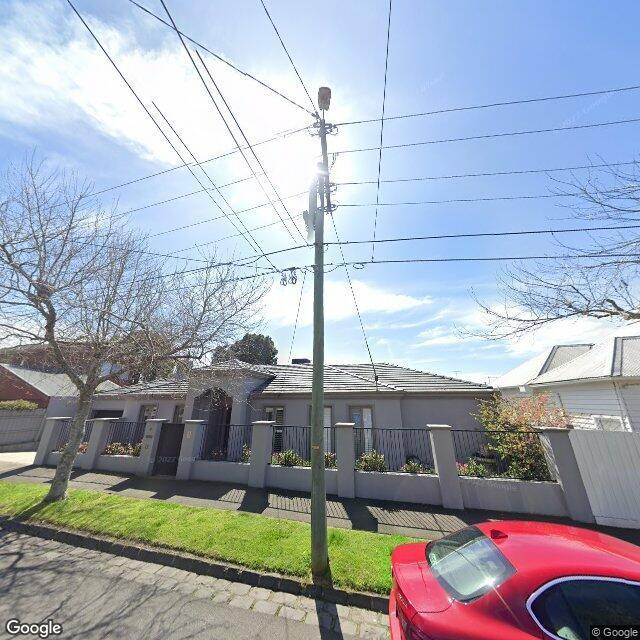crossarm: (320, 120, 331, 209)
streetlight: (318, 86, 330, 120)
timber-pole: (307, 180, 328, 576)
